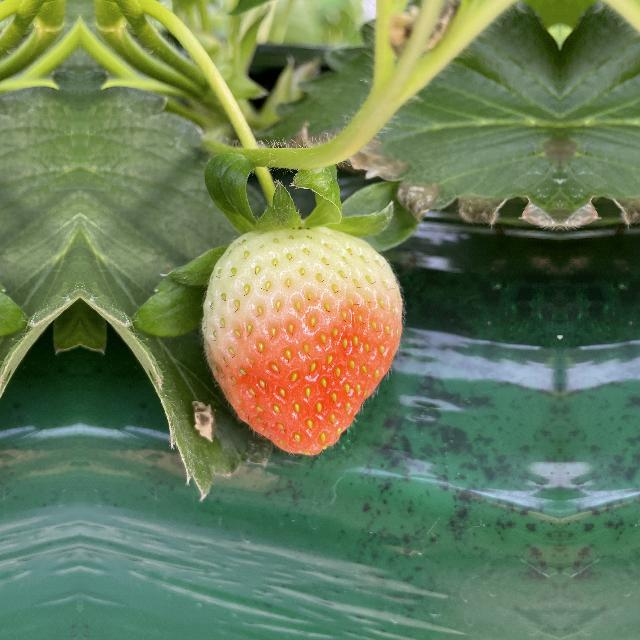Health_75: (194, 214, 412, 466)
